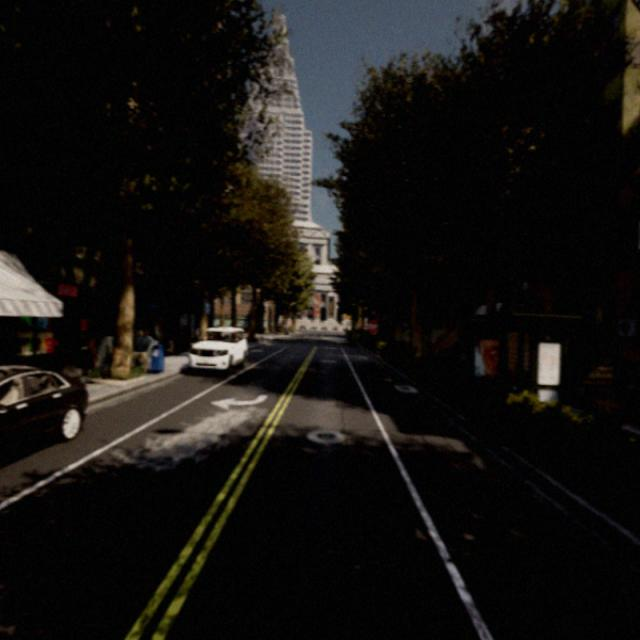stop sign: (368, 322, 381, 336)
